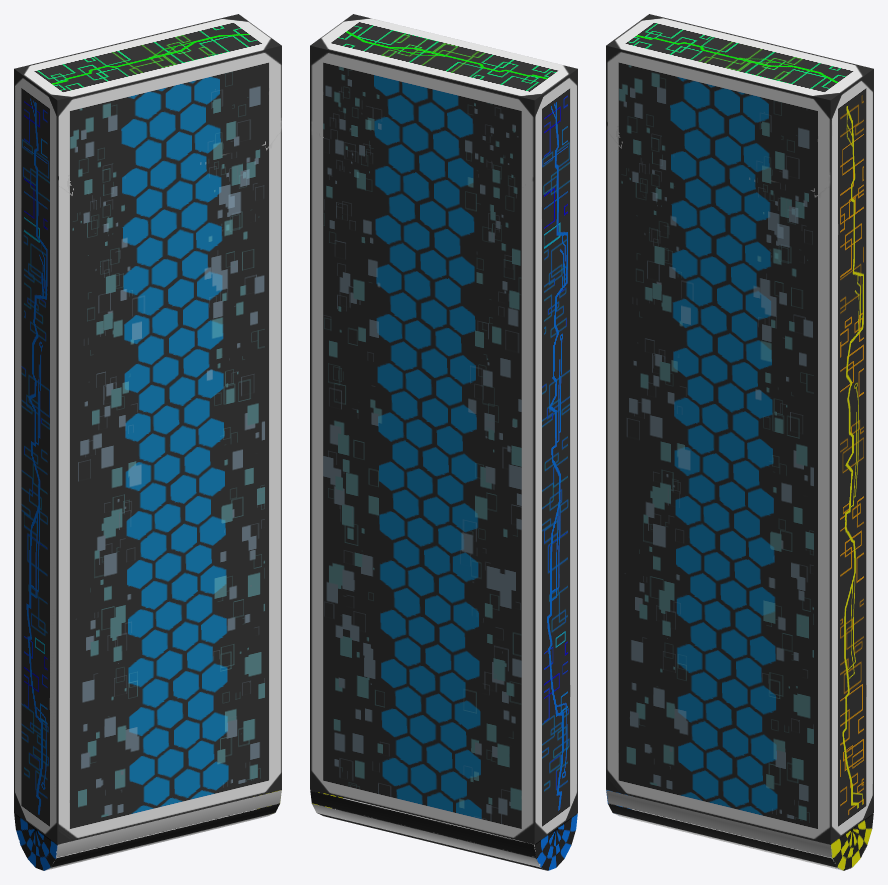
The model's file is Bridge.FBX.
The picture shows the model from 3 angles, left to right: view 1: azimuth 30°, elevation 25°; view 2: azimuth 150°, elevation 25°; view 3: azimuth 330°, elevation 25°; orthographic projection.
Visible parts, largest first — view 1: Box001, Cylinder002; view 2: Box001, Cylinder002; view 3: Box001, Cylinder002.
Boxes of the visible parts, box(x1,y1,x2,y2) form: Box001: box(14, 14, 281, 844); Cylinder002: box(14, 790, 281, 870); Box001: box(310, 14, 577, 844); Cylinder002: box(310, 790, 577, 870); Box001: box(606, 14, 873, 844); Cylinder002: box(606, 790, 873, 870).
Bounding box in the file's own units: 118 × 39.37 × 394.
Materials: 1 (1 with a texture image).
